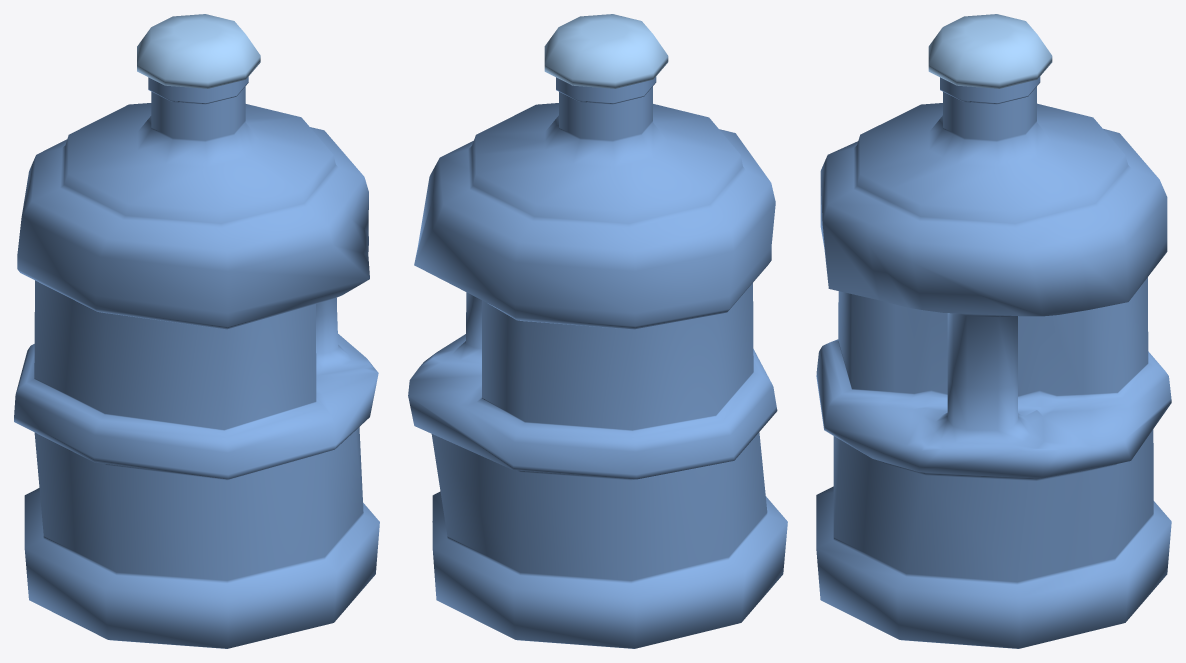
File: water5Gallons.fbx
3 renders of one model, left to right at view 1: azimuth 30°, elevation 25°; view 2: azimuth 150°, elevation 25°; view 3: azimuth 270°, elevation 25°, orthographic.
Parts seen in each view (by area): view 1: Cylinder; view 2: Cylinder; view 3: Cylinder.
Part boxes in pixels (x1,y1,x2,y2): Cylinder: (14, 14, 379, 648); Cylinder: (408, 14, 787, 648); Cylinder: (816, 14, 1171, 648).
Bounding box in the file's own units: 77.88 × 130 × 76.73.
